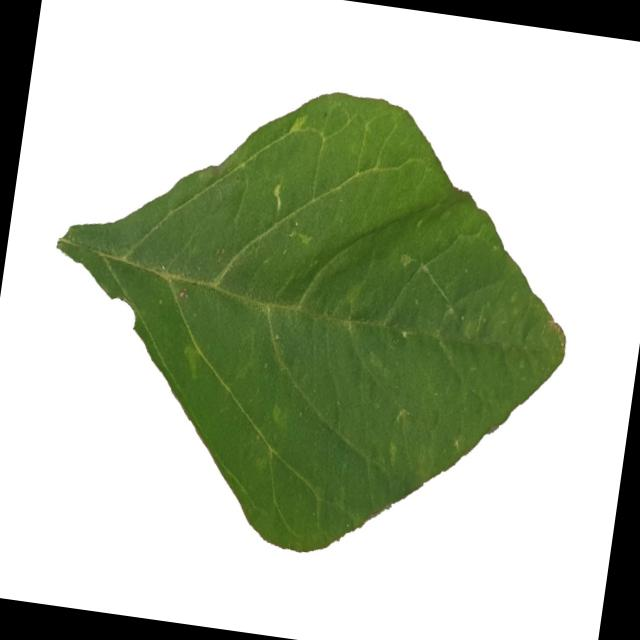Medicinal-Arive Dantu: (21, 49, 598, 588)
